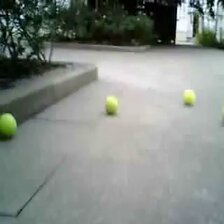tennis: (1, 112, 18, 140), (103, 97, 118, 113), (182, 90, 196, 106)
